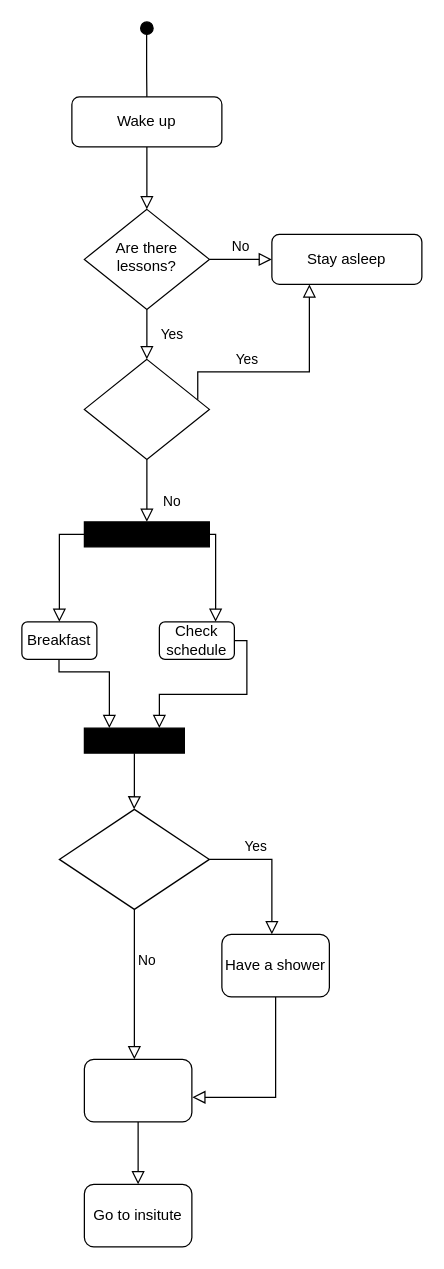
The diagram is 444 pixels wide and 1269 high, and some of its shapes have lost their labels. The shapes that lost their labels are listed below. From the top down, each one's centre as x and y in pixels, then its label:
pixel 146 408: Are you late?
pixel 133 858: Enough time for shower?
pixel 137 1090: Dress up
